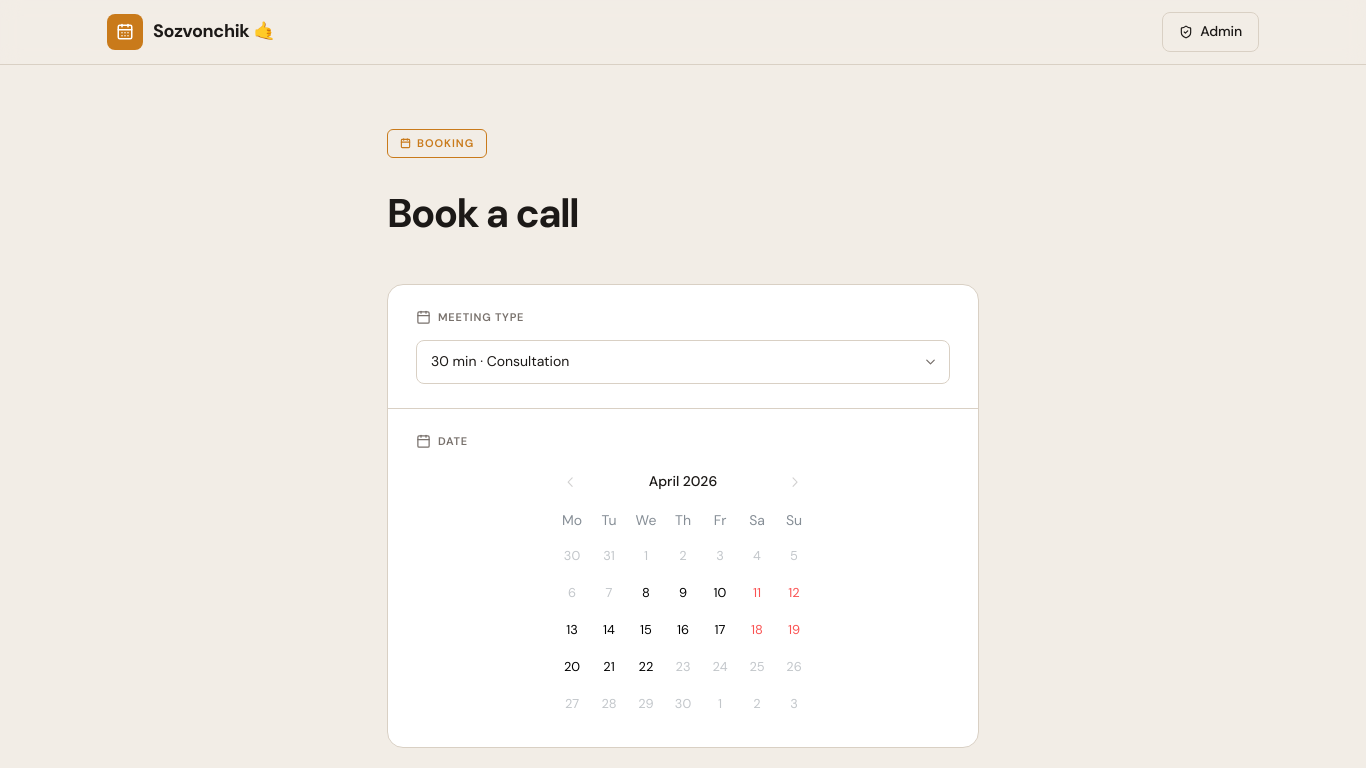
Test: BookCallPage › form submission — 409 → shows conflict error and refetches slots
Check: the dropdown with test id "event-type-select" is shown, box [416, 340, 950, 384]
Click the button "10".
click(720, 593)  # box [702, 575, 738, 611]
(page scrolled)
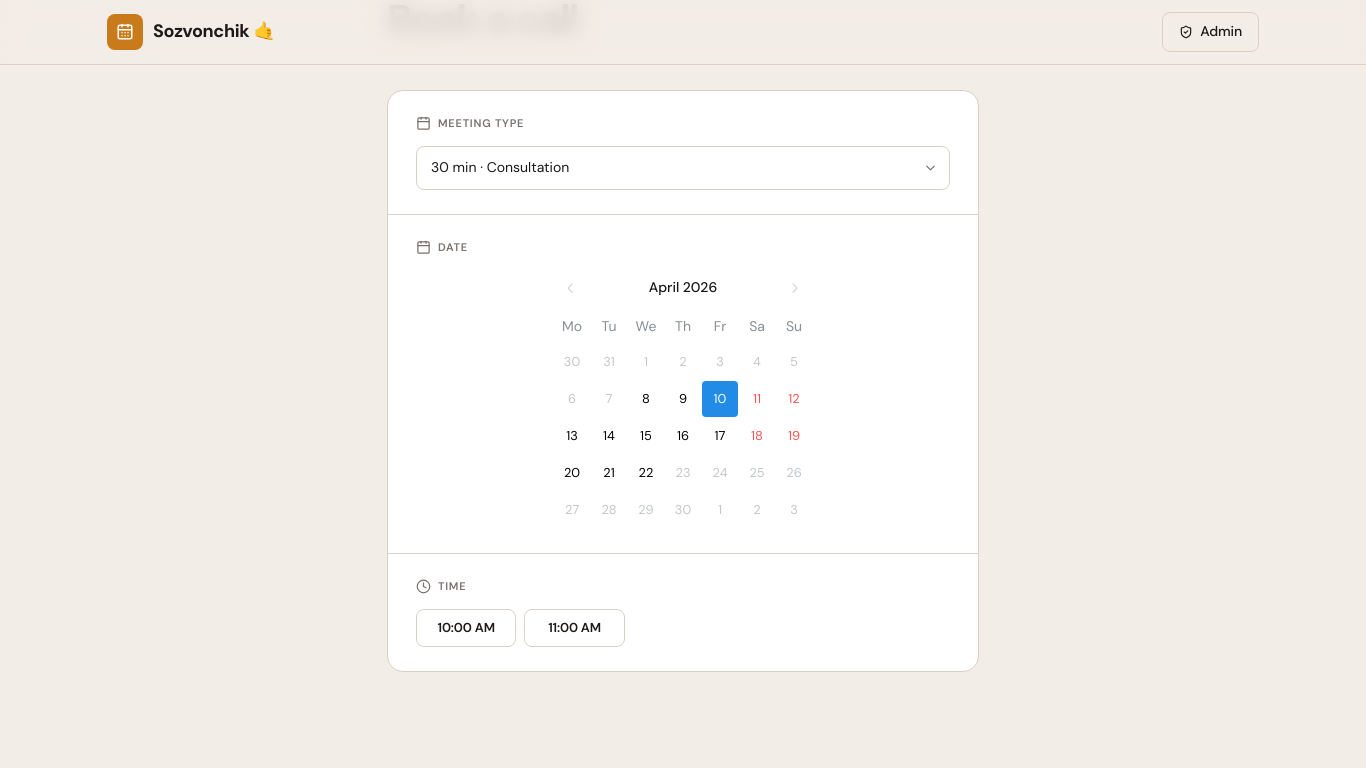
Check: the element with test id "slots-grid" is shown, box [416, 609, 625, 647]
Click the button with test id "slot-2026-04-10T10:00:00.000Z".
click(466, 628)  # box [416, 609, 516, 647]
(page scrolled)
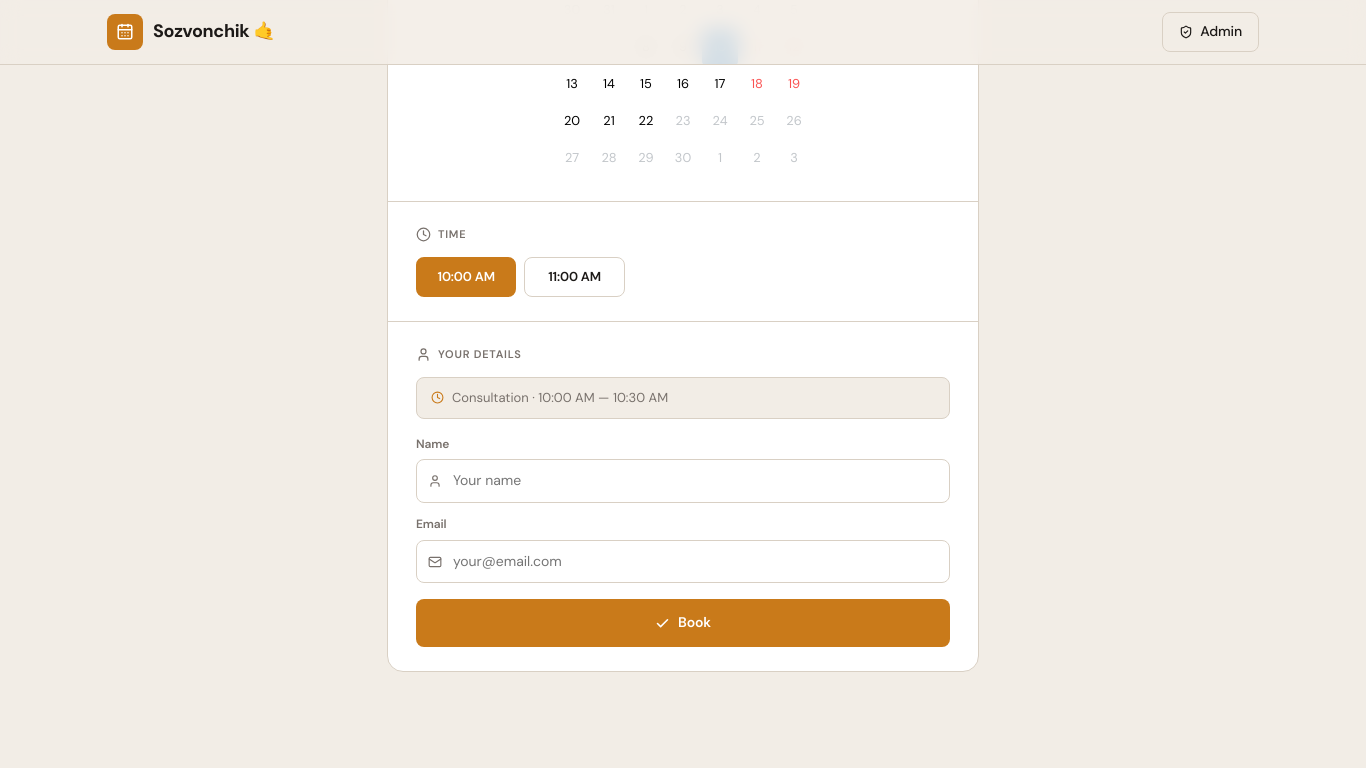
Type "Ivan Ivanov" into the field with test id "guest-name-input".
click(683, 481); type("Ivan Ivanov")  # box [416, 460, 950, 503]
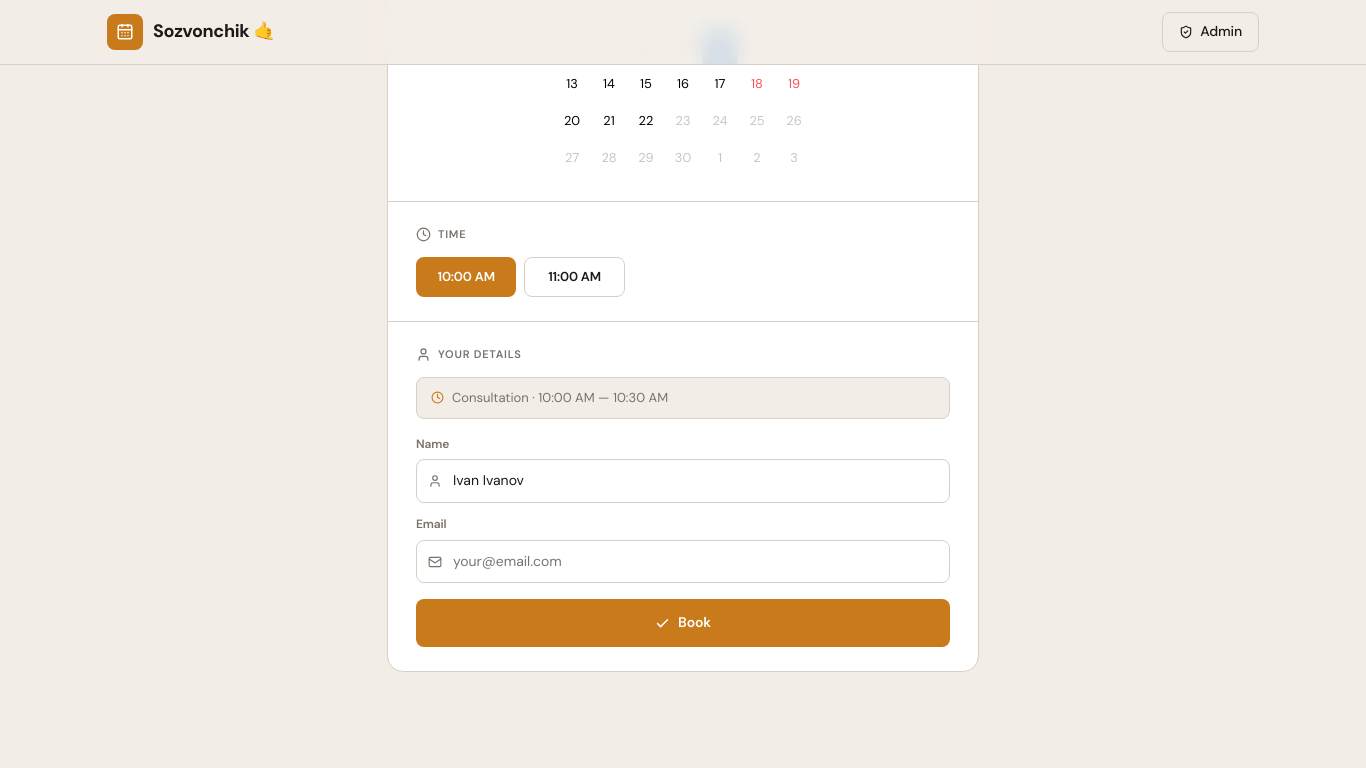
Type "ivan@example.com" into the field with test id "guest-email-input".
click(683, 562); type("ivan@example.com")  # box [416, 540, 950, 584]
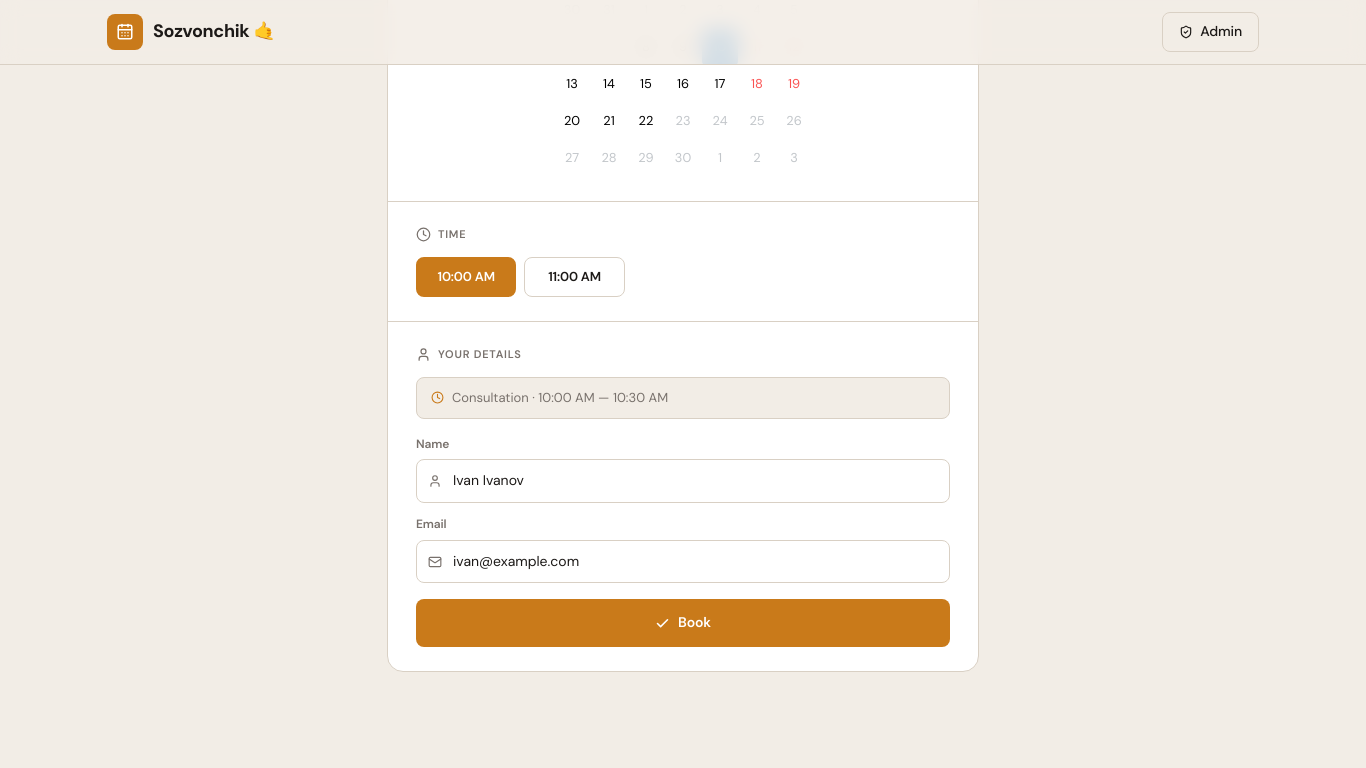
Click the button with test id "submit-button".
click(683, 623)  # box [416, 600, 950, 647]
(page scrolled)
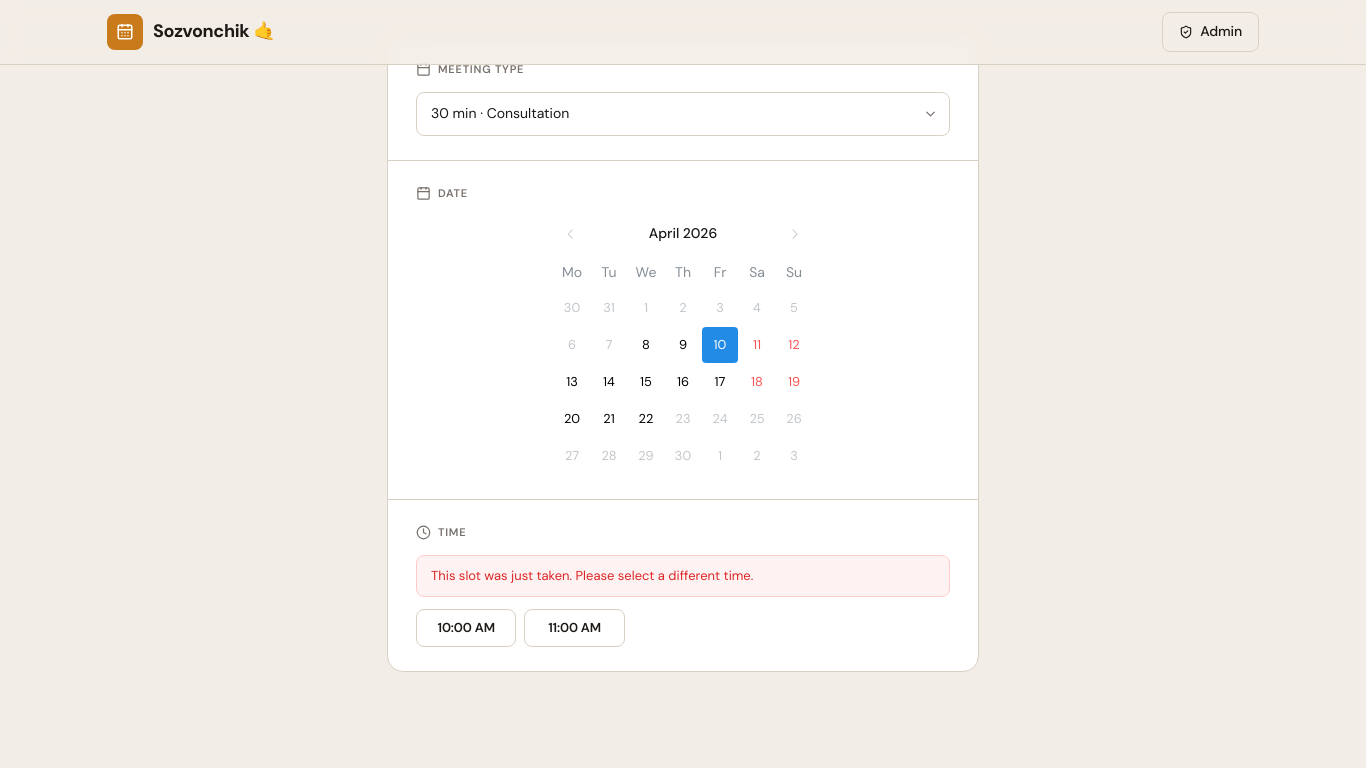
Check: the text "This slot was just taken. Please select a different time." is shown, box [416, 555, 950, 597]
